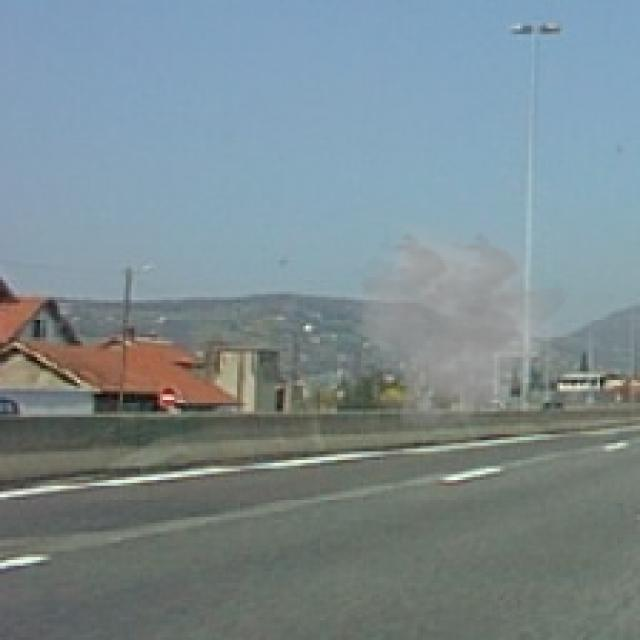Smoke: (346, 223, 572, 443)
